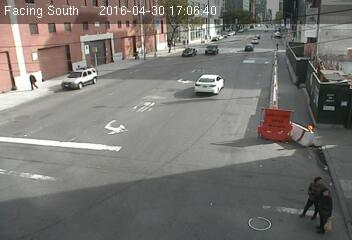neg: (182, 90, 204, 119), (124, 53, 135, 68), (209, 60, 220, 74), (242, 47, 252, 60)
pos: (308, 186, 344, 232), (300, 172, 334, 217), (23, 70, 39, 91), (273, 41, 282, 54)
